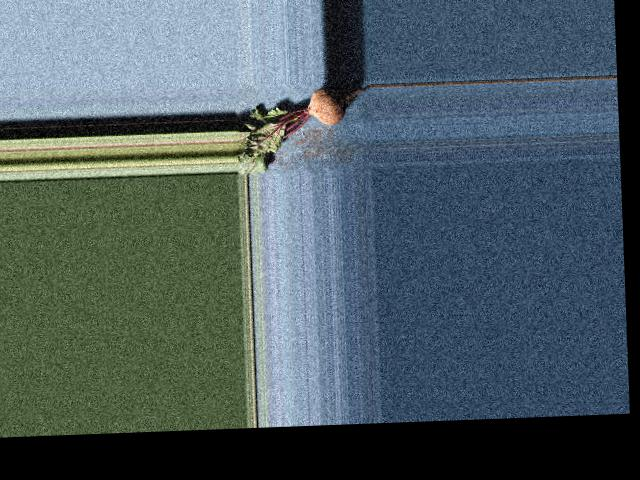beet: (233, 84, 373, 174)
